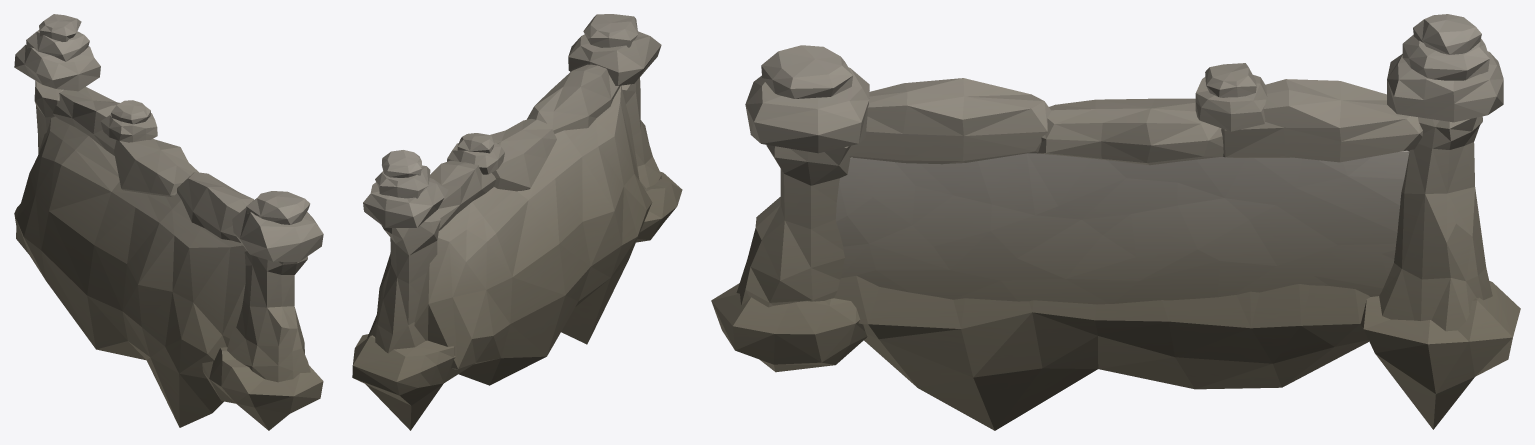
Rendered from wall_Desert_frame.fbx.
3 renders of one model, left to right at view 1: azimuth 30°, elevation 25°; view 2: azimuth 150°, elevation 25°; view 3: azimuth 270°, elevation 25°, orthographic. The views are drawn at different scales.
Parts seen in each view (by area): view 1: wall_frame_desert; view 2: wall_frame_desert; view 3: wall_frame_desert, wall_clean.
Boxes of the visible parts, bbox=[...] form: wall_frame_desert: bbox=[14, 14, 323, 430]; wall_frame_desert: bbox=[352, 14, 682, 430]; wall_frame_desert: bbox=[711, 14, 1520, 430]; wall_clean: bbox=[836, 150, 1409, 304].
Bounding box in the file's own units: 1648 × 3996 × 6747.
